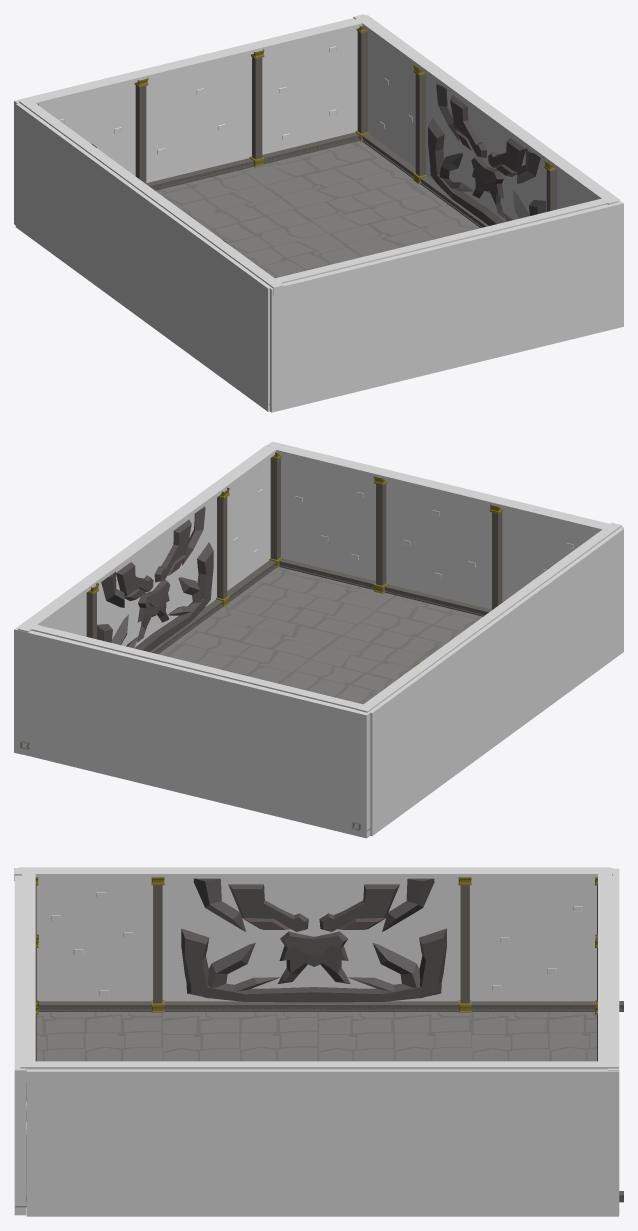
File: boss02.fbx
3 views of the same model, one above another, from view 1: azimuth 30°, elevation 25°; view 2: azimuth 150°, elevation 25°; view 3: azimuth 270°, elevation 25° (orthographic). The views are drawn at different scales.
Parts seen in each view (by area): view 1: Box045, 006, Box051, Box050, Object003, Object028; view 2: Box045, 006, Box051, Box050, Object003, Object028; view 3: Box045, 006, Box051, Box049, Object028, Object003, Object031.
Boxes of the visible parts, x1=… form: Box045: x1=14, y1=15, x2=623, y2=412; 006: x1=14, y1=141, x2=480, y2=405; Box051: x1=19, y1=14, x2=618, y2=295; Box050: x1=428, y1=82, x2=545, y2=225; Object003: x1=38, y1=26, x2=556, y2=243; Object028: x1=146, y1=132, x2=488, y2=227; Box045: x1=14, y1=441, x2=623, y2=838; 006: x1=158, y1=567, x2=482, y2=831; Box051: x1=18, y1=442, x2=621, y2=712; Box050: x1=97, y1=506, x2=213, y2=651; Object003: x1=86, y1=452, x2=599, y2=666; Object028: x1=20, y1=558, x2=491, y2=830; Box045: x1=14, y1=867, x2=619, y2=1216; 006: x1=15, y1=1012, x2=596, y2=1207; Box051: x1=14, y1=868, x2=618, y2=1076; Box049: x1=181, y1=878, x2=446, y2=1002; Object028: x1=26, y1=1001, x2=623, y2=1202; Object003: x1=26, y1=877, x2=597, y2=1201; Object031: x1=26, y1=892, x2=582, y2=1134.
Size of the model in its own units: 4303 by 1448 by 5446.
